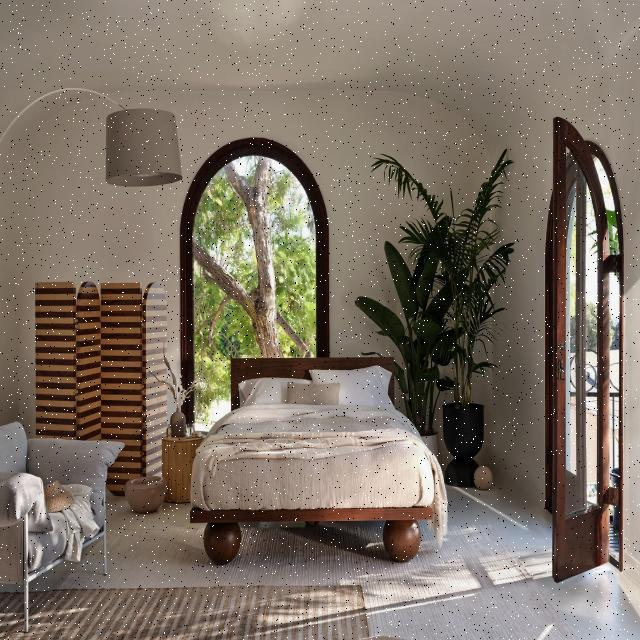bed: (190, 353, 444, 570)
